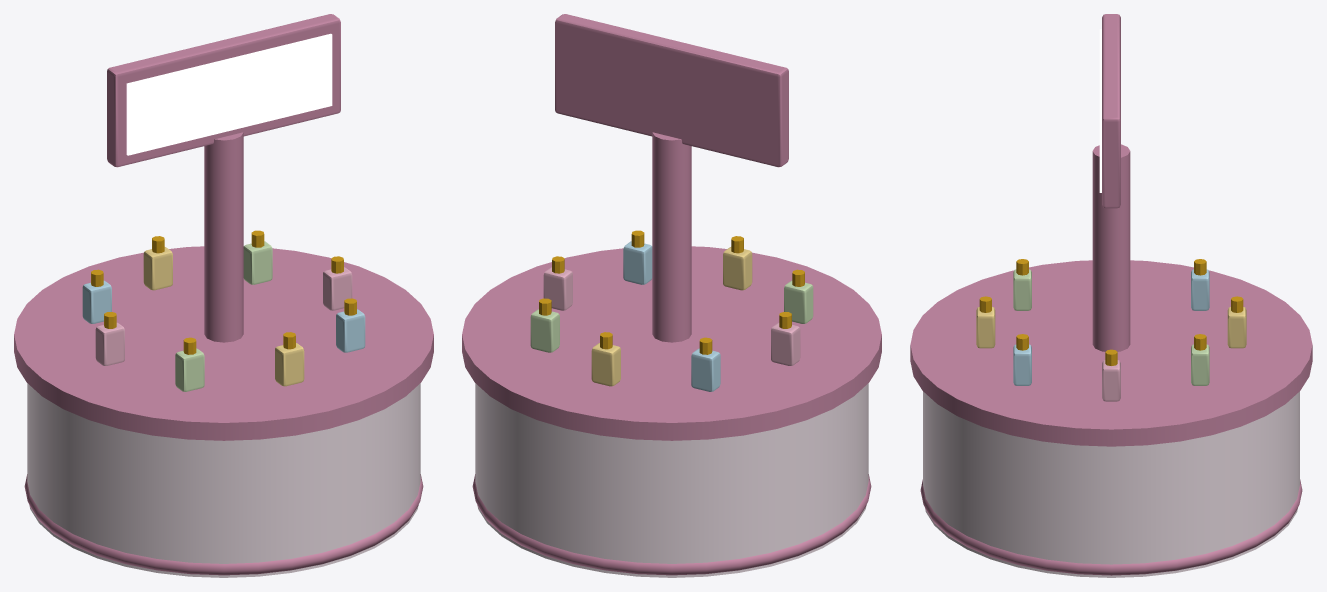
File: perfume-kiosk.glb
3 renders of one model, left to right at view 1: azimuth 30°, elevation 25°; view 2: azimuth 150°, elevation 25°; view 3: azimuth 270°, elevation 25°, orthographic. The views are drawn at different scales.
Visible parts, largest first — view 1: part-kiosk-trim, part-kiosk, part-sign-face, part-bottle-3, part-bottle-2, part-bottle-1, part-bottle-0, part-gold; view 2: part-kiosk-trim, part-kiosk, part-bottle-1, part-bottle-2, part-bottle-3, part-bottle-0, part-gold; view 3: part-kiosk-trim, part-kiosk, part-bottle-2, part-bottle-1, part-bottle-3, part-gold, part-bottle-0.
Boxes of the visible parts, x1,y1,x2,y2 form: part-kiosk-trim: [14, 14, 433, 575]; part-kiosk: [27, 383, 420, 577]; part-sign-face: [126, 33, 332, 155]; part-bottle-3: [175, 241, 272, 391]; part-bottle-2: [143, 247, 304, 386]; part-bottle-1: [82, 280, 365, 352]; part-bottle-0: [95, 267, 352, 365]; part-gold: [91, 230, 356, 354]; part-kiosk-trim: [462, 14, 881, 575]; part-kiosk: [475, 383, 868, 577]; part-bottle-1: [623, 241, 720, 391]; part-bottle-2: [591, 247, 752, 386]; part-bottle-3: [530, 280, 813, 352]; part-bottle-0: [543, 267, 800, 365]; part-gold: [539, 230, 804, 354]; part-kiosk-trim: [910, 14, 1312, 575]; part-kiosk: [923, 391, 1299, 577]; part-bottle-2: [976, 307, 1246, 348]; part-bottle-1: [1013, 269, 1209, 385]; part-bottle-3: [1013, 269, 1209, 385]; part-gold: [979, 259, 1243, 365]; part-bottle-0: [1102, 360, 1120, 401].
Size of the model in its own units: 64 by 76 by 64.
